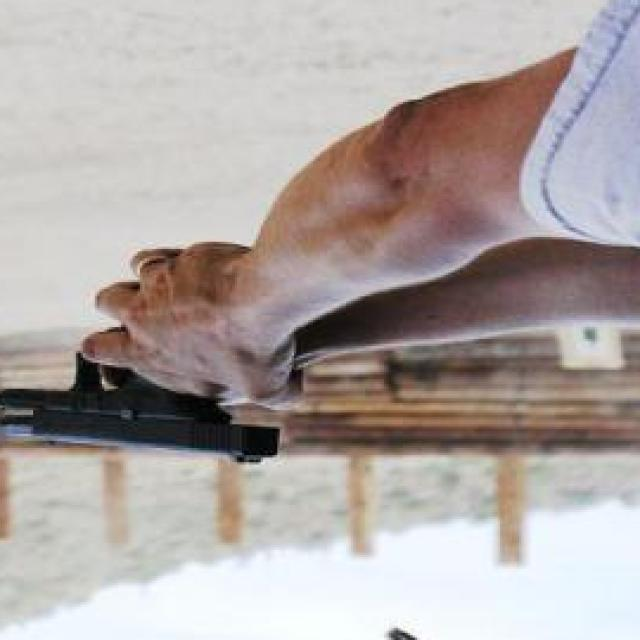pistol: (0, 348, 280, 467)
